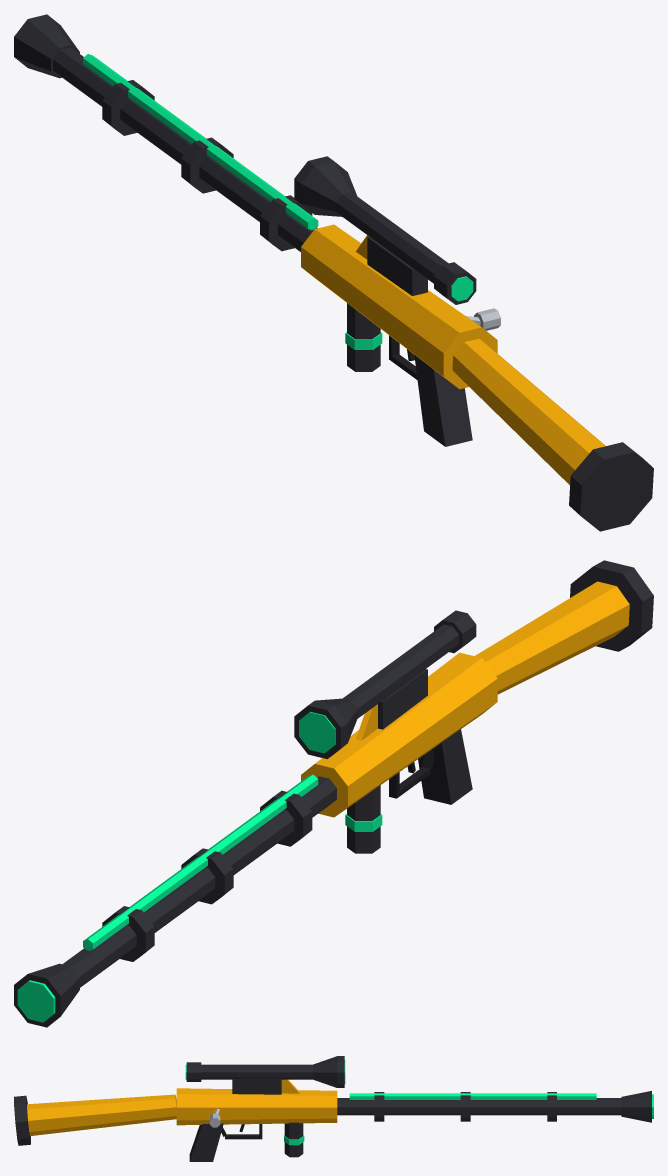
Rendered from Hornet.obj.
The picture shows the model from 3 angles, top to bottom: view 1: azimuth 30°, elevation 25°; view 2: azimuth 150°, elevation 25°; view 3: azimuth 270°, elevation 25°; orthographic projection. The views are drawn at different scales.
Visible parts, largest first — view 1: Body, Stock, Scope, Barrel, Pad, Accent, Handguard, Grip, Muzzle, Mount, Magazine; view 2: Body, Stock, Barrel, Scope, Accent, Handguard, Pad, Grip, Muzzle, Magazine, Mount, Lens (+1 smaller); view 3: Body, Stock, Barrel, Scope, Accent, Grip, Handguard, Muzzle, Mount, Pad, Magazine, Trigger.
Part boxes in pixels (x1=…): Body: x1=301, y1=224, x2=497, y2=389; Stock: x1=452, y1=338, x2=605, y2=484; Scope: x1=294, y1=156, x2=476, y2=304; Barrel: x1=53, y1=47, x2=317, y2=251; Pad: x1=569, y1=442, x2=653, y2=531; Accent: x1=83, y1=54, x2=382, y2=349; Handguard: x1=102, y1=80, x2=312, y2=251; Grip: x1=414, y1=355, x2=472, y2=446; Muzzle: x1=14, y1=14, x2=79, y2=78; Mount: x1=367, y1=236, x2=427, y2=295; Magazine: x1=347, y1=303, x2=380, y2=371; Body: x1=301, y1=652, x2=497, y2=817; Stock: x1=474, y1=581, x2=629, y2=694; Barrel: x1=62, y1=776, x2=336, y2=987; Scope: x1=294, y1=610, x2=476, y2=759; Accent: x1=17, y1=774, x2=382, y2=1022; Handguard: x1=102, y1=790, x2=312, y2=961; Pad: x1=570, y1=560, x2=653, y2=651; Grip: x1=418, y1=729, x2=472, y2=804; Muzzle: x1=14, y1=963, x2=79, y2=1027; Magazine: x1=347, y1=785, x2=380, y2=853; Mount: x1=378, y1=669, x2=427, y2=729; Lens: x1=299, y1=711, x2=335, y2=753; Body: x1=176, y1=1079, x2=337, y2=1125; Stock: x1=27, y1=1094, x2=176, y2=1135; Barrel: x1=337, y1=1098, x2=621, y2=1115; Scope: x1=186, y1=1056, x2=344, y2=1087; Accent: x1=284, y1=1093, x2=653, y2=1145; Grip: x1=189, y1=1123, x2=223, y2=1161; Handguard: x1=374, y1=1092, x2=556, y2=1121; Muzzle: x1=621, y1=1091, x2=651, y2=1122; Mount: x1=232, y1=1079, x2=281, y2=1094; Pad: x1=14, y1=1095, x2=30, y2=1145; Magazine: x1=284, y1=1122, x2=303, y2=1157; Trigger: x1=221, y1=1124, x2=262, y2=1139.
Size of the model in its own units: 0.4948 by 0.8901 by 5.18.
